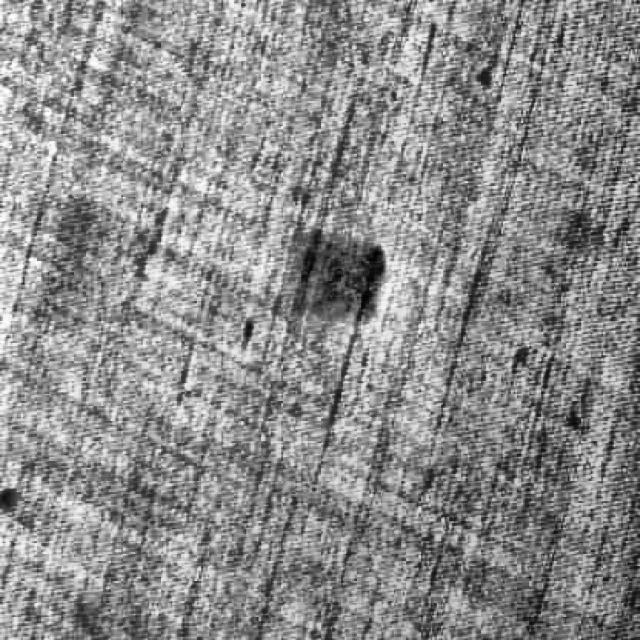oil_spot: (267, 206, 391, 336)
